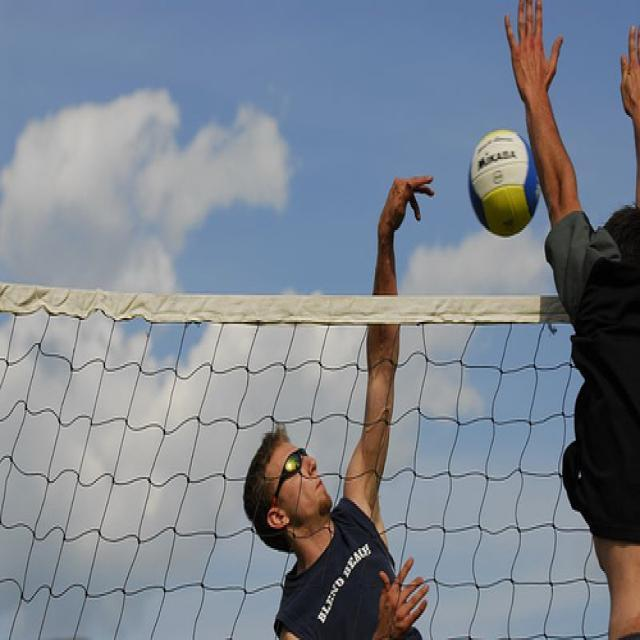volleyball: (468, 128, 540, 238)
